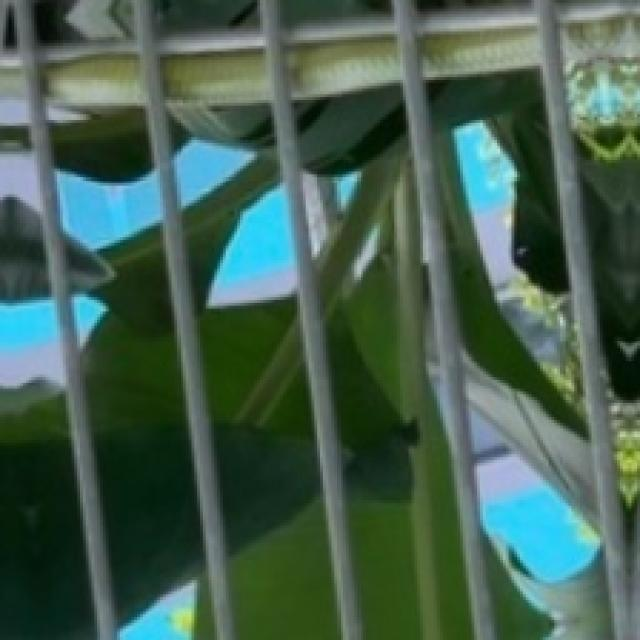paradise tree snake: (46, 0, 140, 120), (286, 14, 397, 97), (420, 3, 537, 77), (160, 26, 266, 103), (557, 0, 637, 63)
